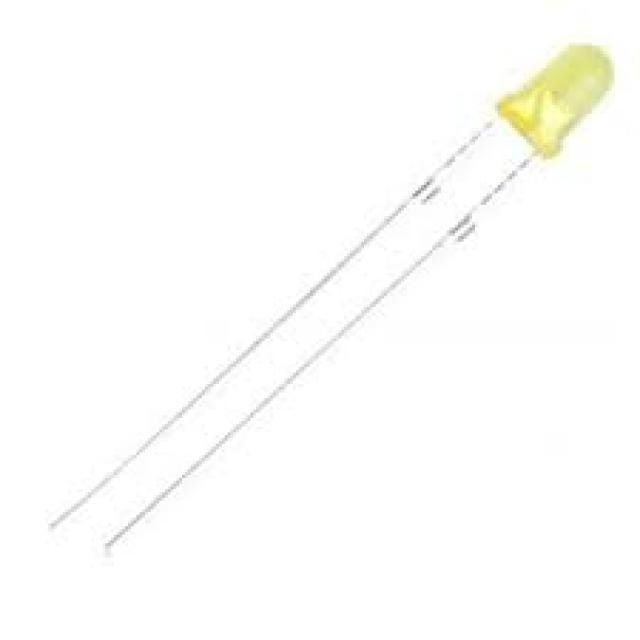Led: (150, 45, 612, 509)
